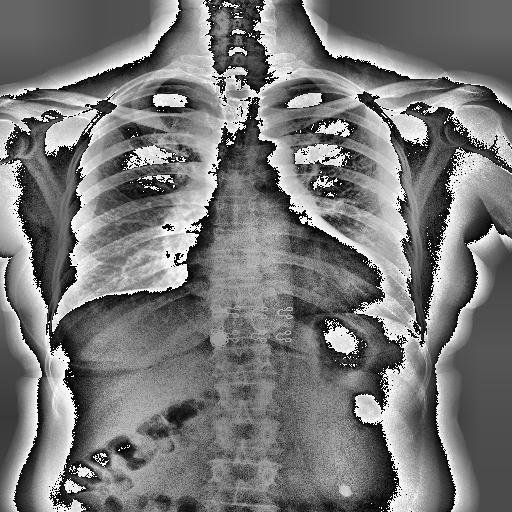11- Pleural thickening: (266, 76, 305, 93)
3- Cardiomegaly: (184, 238, 388, 310), (186, 245, 392, 313), (184, 246, 388, 312)
9- Other lesion: (157, 214, 212, 288)
